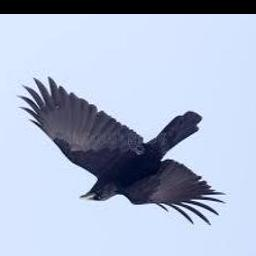Crow: (20, 79, 227, 226)
